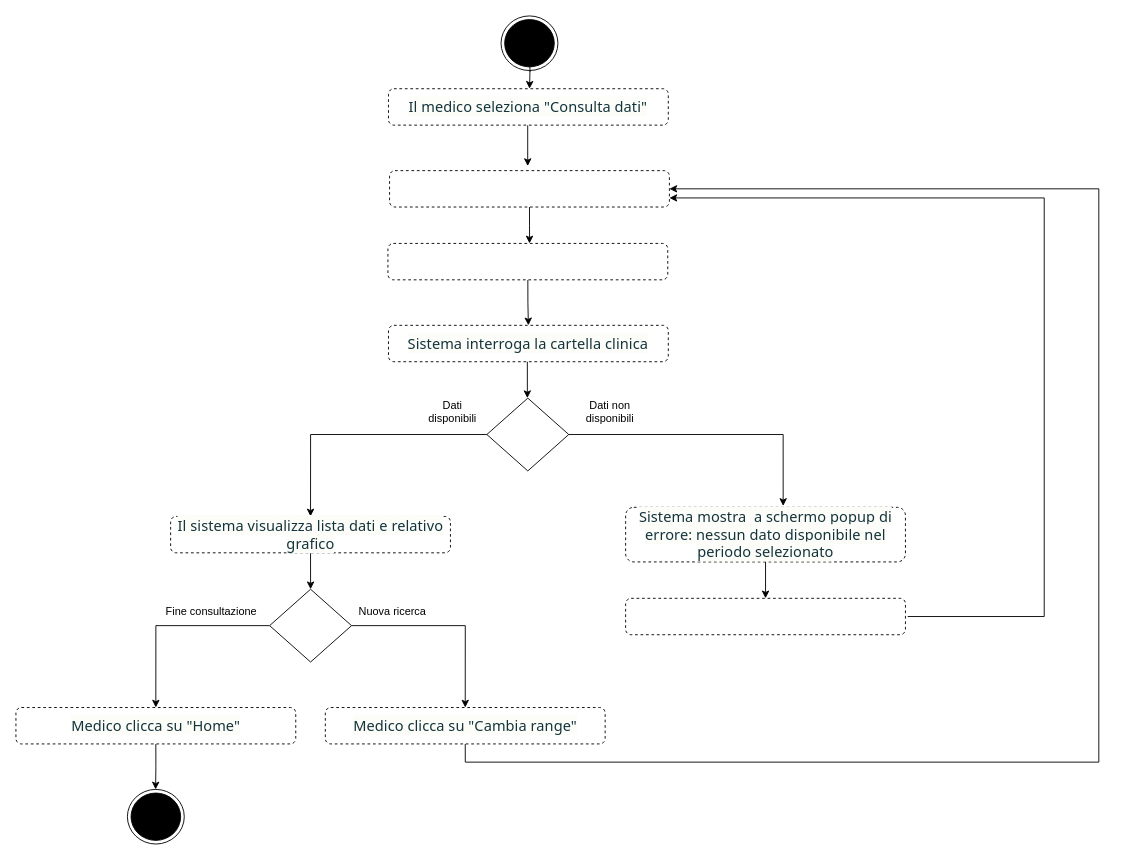
Some shapes in this 1122 by 860 pixel diagram are drawn without their labels. The shapes that lost their labels are listed below. From the top down, each one's centre as x and y in pixels, then its label:
point (529, 188): Medico imposta intervallo temporale
point (527, 261): Medico clicca su "Visualizza dati"
point (765, 616): Medico clicca su "Ok"
